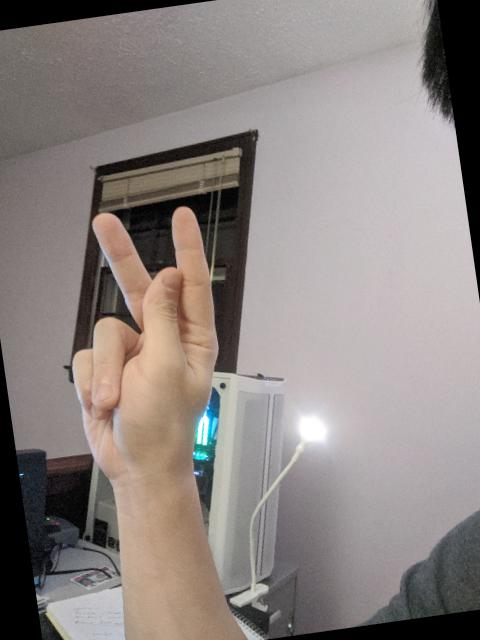K: (46, 190, 242, 491)
